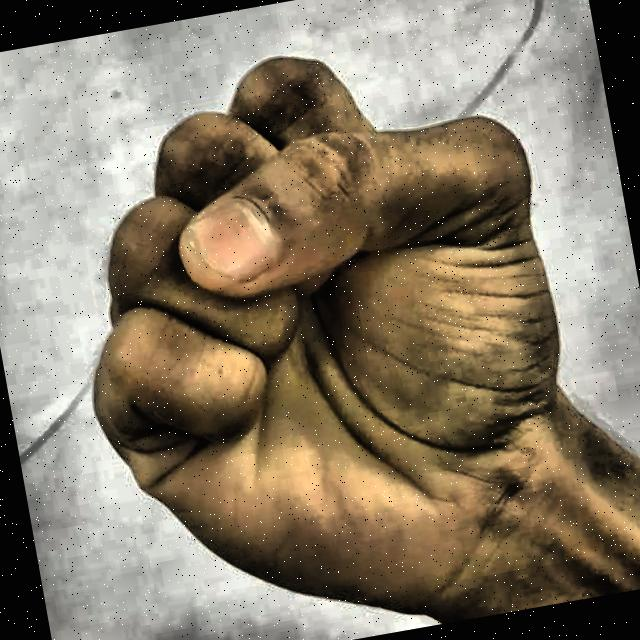Sha: (0, 0, 626, 640)
